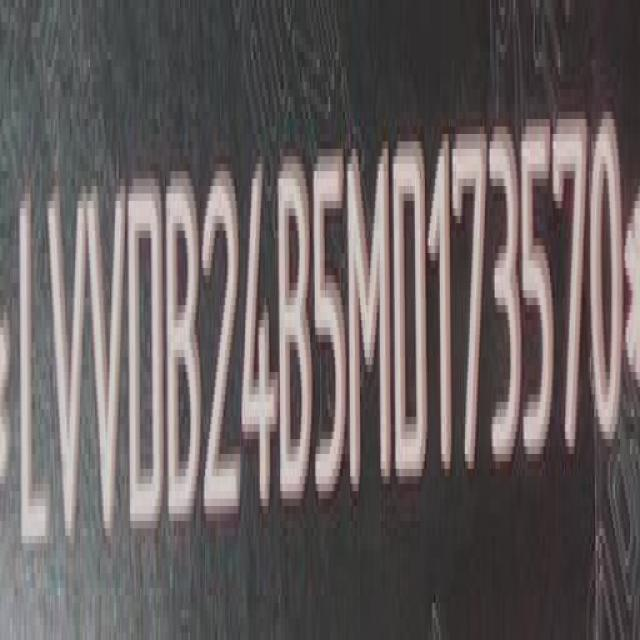0: (592, 116, 624, 455)
1: (430, 127, 455, 489)
2: (205, 172, 242, 538)
3: (491, 121, 521, 480)
4: (243, 158, 277, 527)
5: (314, 145, 347, 505), (522, 116, 553, 473)
7: (553, 109, 588, 467), (458, 122, 488, 486)
B: (168, 174, 206, 539), (278, 150, 312, 518)
D: (126, 175, 162, 548), (396, 132, 432, 493)
L: (17, 191, 48, 571)
M: (346, 135, 392, 494)
V: (46, 181, 86, 562), (89, 181, 128, 554)
